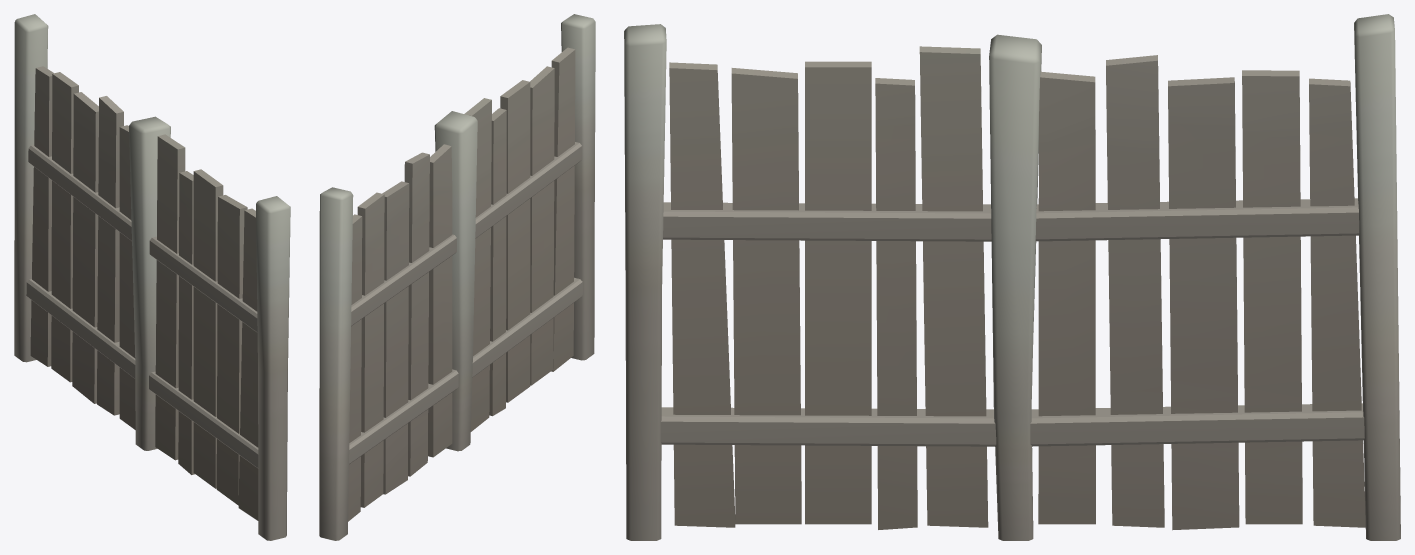
Rendered from WallFence_2_2_B.fbx.
3 views of the same model, side by side, from view 1: azimuth 30°, elevation 25°; view 2: azimuth 150°, elevation 25°; view 3: azimuth 270°, elevation 25° (orthographic). The views are drawn at different scales.
Parts seen in each view (by area): view 1: WallFence_2_2_B; view 2: WallFence_2_2_B; view 3: WallFence_2_2_B.
Part boxes in pixels (x1,y1,x2,y2): WallFence_2_2_B: (14, 14, 290, 540); WallFence_2_2_B: (319, 14, 595, 540); WallFence_2_2_B: (624, 14, 1400, 540).
Size of the model in its own units: 14.3 by 152 by 209.
